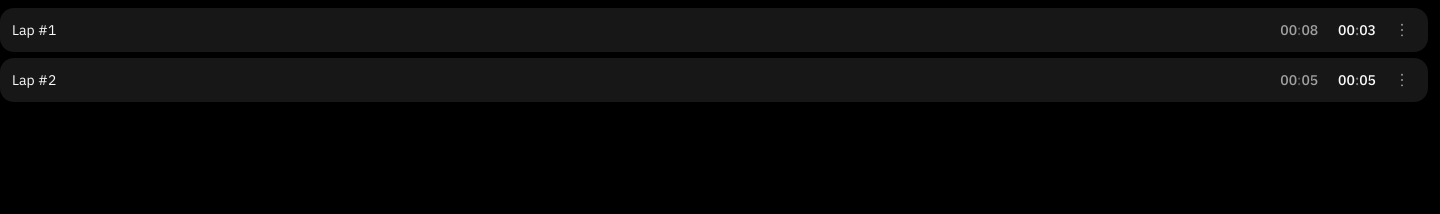
Test: Laps › cancels the rename when the ✕ button is clicked
Click the button titled "Mais opções" next to "03".
click(1402, 30)  # box x1=1384 y1=12 x2=1420 y2=48
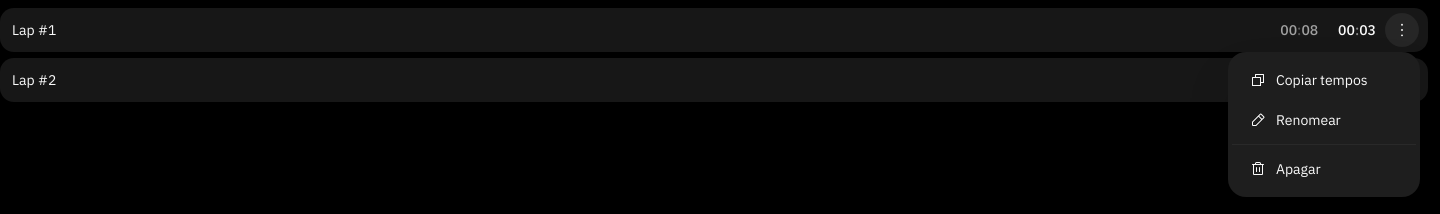
Click the menu item "Renomear".
click(1295, 120)  # box x1=1250 y1=111 x2=1341 y2=129
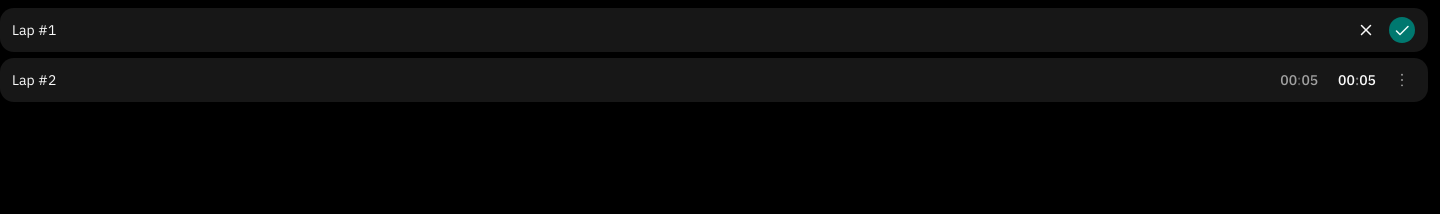
Replace the text in the field showing "Lap #1" with "Discarded" at (678, 30), box x1=12 y1=20 x2=1344 y2=40
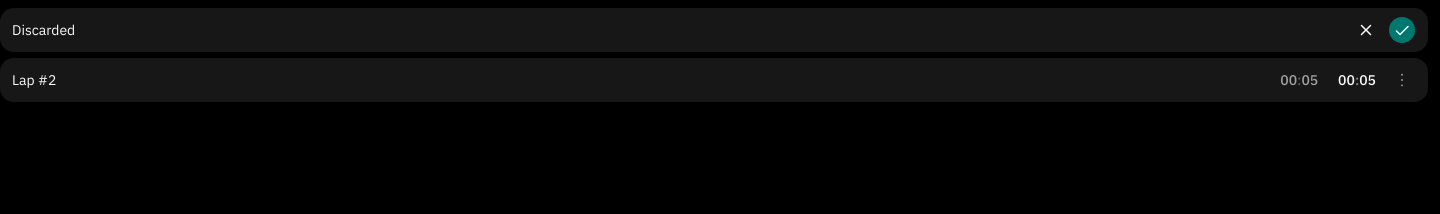
Click the button named "Cancelar".
click(1366, 30)  # box x1=1352 y1=16 x2=1380 y2=44
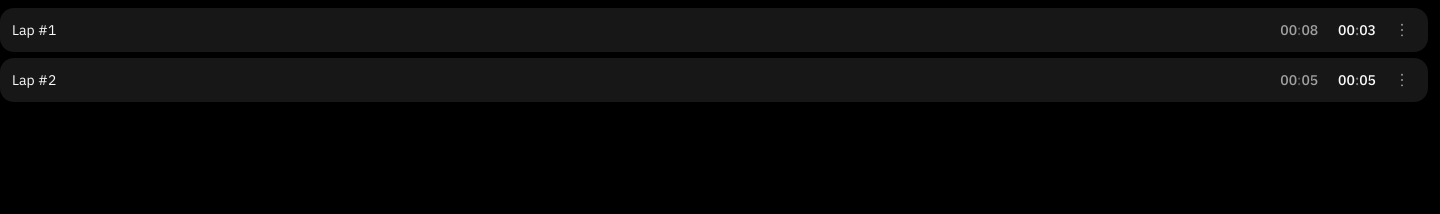
expect the text "Lap #1" is shown: met, box x1=12 y1=21 x2=56 y2=39
